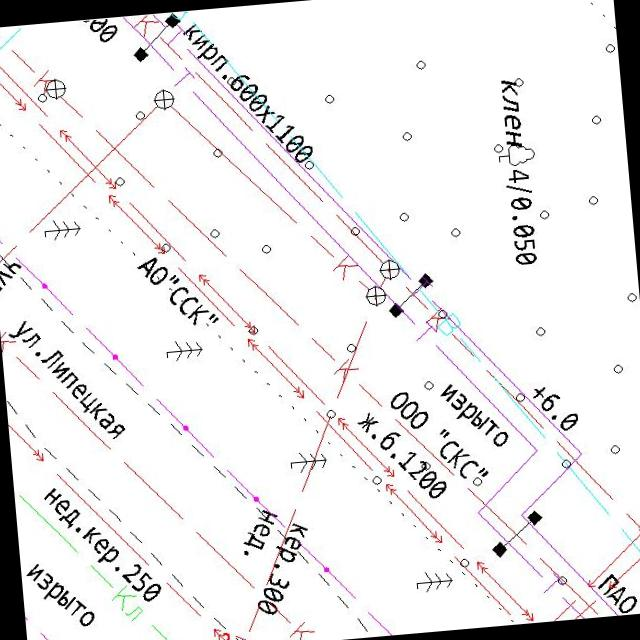tree: (164, 336, 205, 364), (288, 448, 330, 475), (414, 568, 456, 594), (42, 216, 82, 243), (497, 142, 537, 168)
well: (42, 74, 68, 102), (150, 86, 178, 112), (362, 282, 388, 309), (377, 256, 403, 282)
